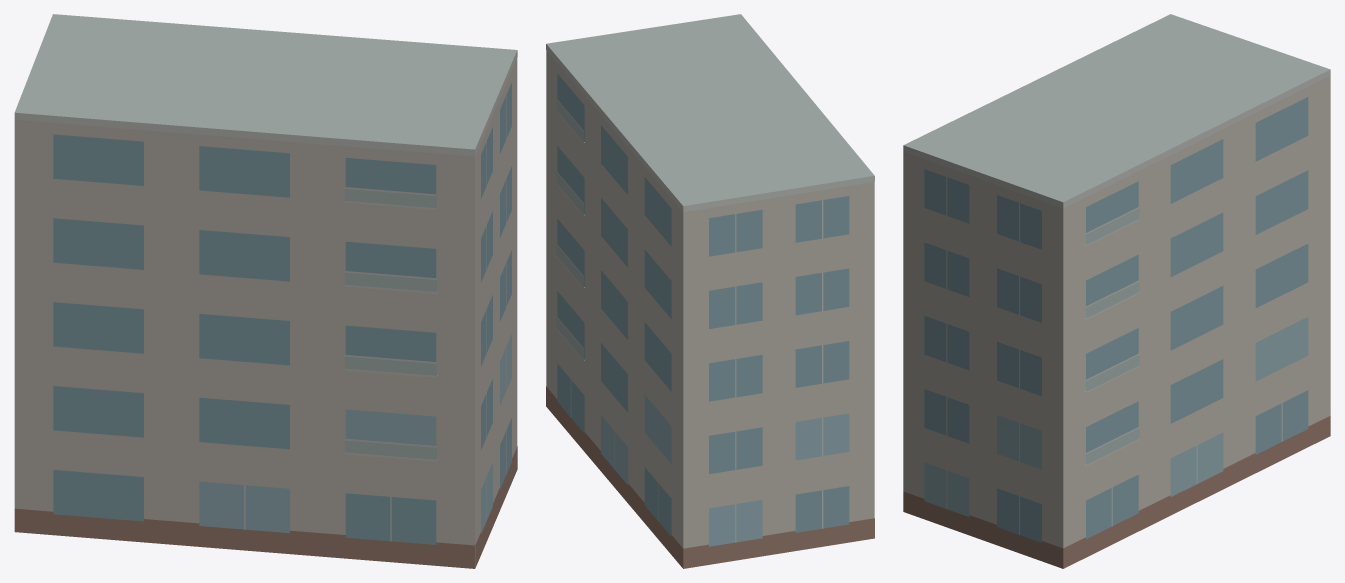
Rendered from survey-upis-32679188.glb.
The picture shows the model from 3 angles, left to right: view 1: azimuth 30°, elevation 25°; view 2: azimuth 150°, elevation 25°; view 3: azimuth 270°, elevation 25°; orthographic projection. The views are drawn at different scales.
Parts seen in each view (by area): view 1: survey-upis-32679188.tmp; view 2: survey-upis-32679188.tmp; view 3: survey-upis-32679188.tmp.
Boxes of the visible parts, x1,y1,x2,y2 form: survey-upis-32679188.tmp: (14, 14, 517, 568); survey-upis-32679188.tmp: (546, 14, 874, 568); survey-upis-32679188.tmp: (903, 14, 1330, 568).
Bounding box in the file's own units: 16.09 × 14.6 × 15.43.
